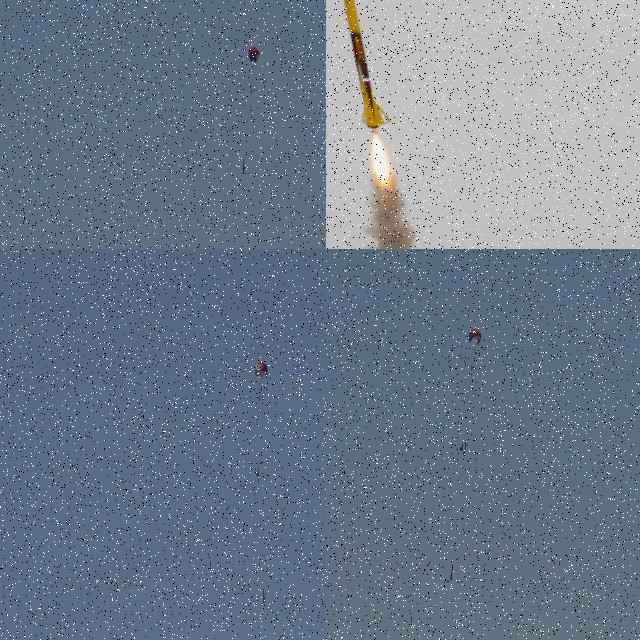Rocket: (339, 0, 393, 129), (450, 564, 453, 580), (263, 588, 265, 604)
